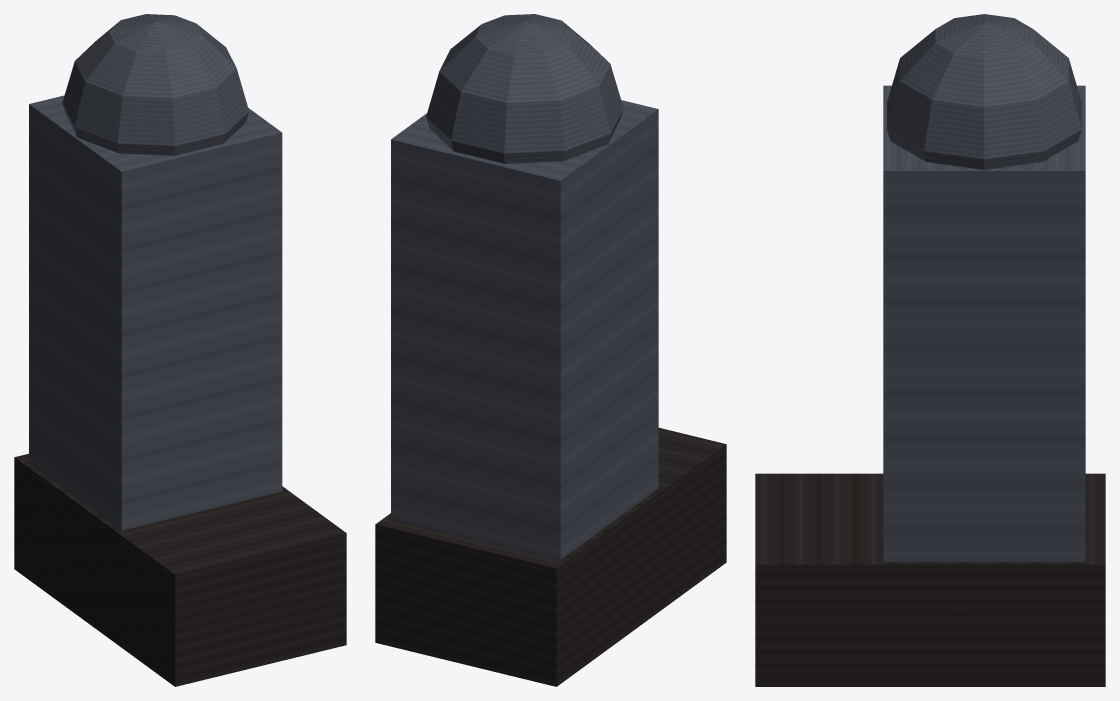
The model's file is arrodillado_pantorrilla_izq.obj.
3 renders of one model, left to right at view 1: azimuth 30°, elevation 25°; view 2: azimuth 150°, elevation 25°; view 3: azimuth 270°, elevation 25°, orthographic. The views are drawn at different scales.
Visible parts, largest first — view 1: arrodillado_pantorrilla_izq; view 2: arrodillado_pantorrilla_izq; view 3: arrodillado_pantorrilla_izq.
Boxes of the visible parts, x1,y1,x2,y2 form: arrodillado_pantorrilla_izq: (14,14,346,686); arrodillado_pantorrilla_izq: (375,14,726,686); arrodillado_pantorrilla_izq: (755,14,1105,686).
Bounding box in the file's own units: 0.08 × 0.253 × 0.13.
Materials: 1 (1 with a texture image).
